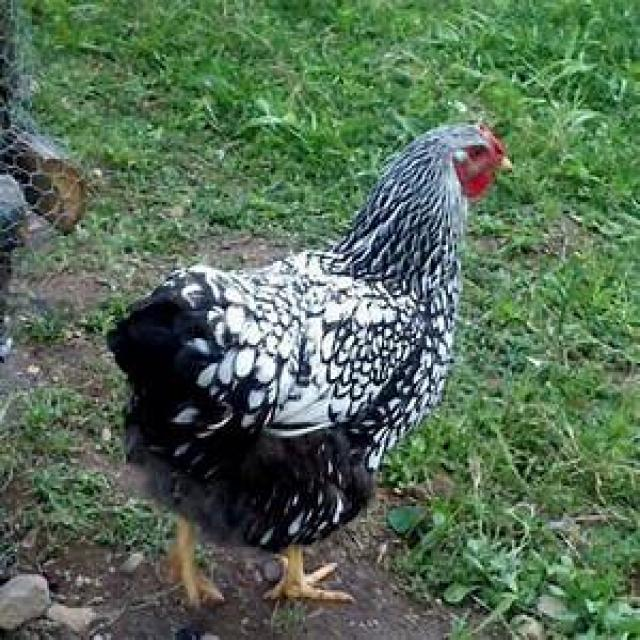hen: (105, 125, 512, 608)
